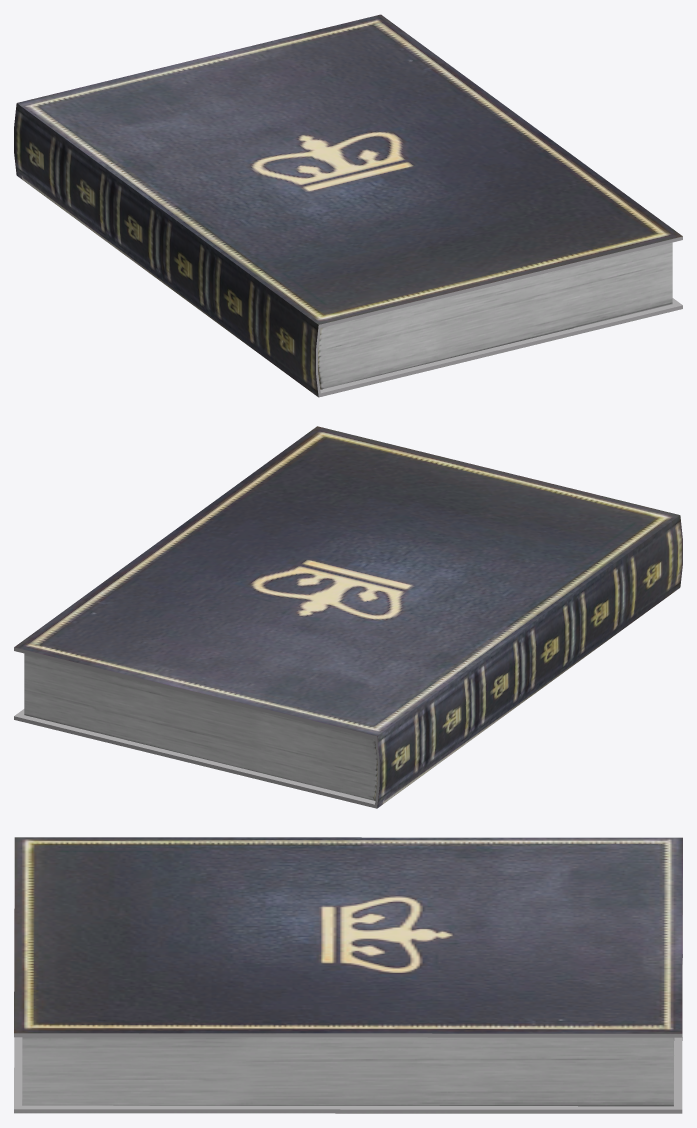
Rendered from SM_Book_1.glb.
3 renders of one model, top to bottom at view 1: azimuth 30°, elevation 25°; view 2: azimuth 150°, elevation 25°; view 3: azimuth 270°, elevation 25°, orthographic. The views are drawn at different scales.
Visible parts, largest first — view 1: SM_Book_1; view 2: SM_Book_1; view 3: SM_Book_1.
Part boxes in pixels (x1,y1,x2,y2): SM_Book_1: (14, 14, 682, 397); SM_Book_1: (14, 426, 682, 808); SM_Book_1: (14, 837, 682, 1113).
Bounding box in the file's own units: 0.1716 × 0.0324 × 0.2453.
1 material, 1 textured.
